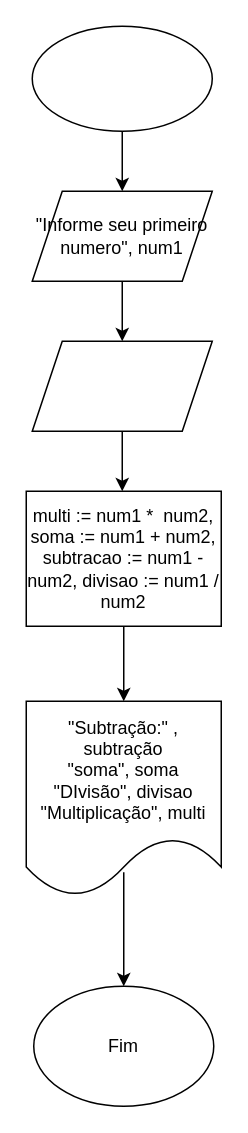
Image size: 248x1133. Some labels were removed from this diagram. The centre of each missing label's shape, as x and y in pixels:
"Informe seu segundo numero", num2: pixel 121 385
Inicio: pixel 121 78
